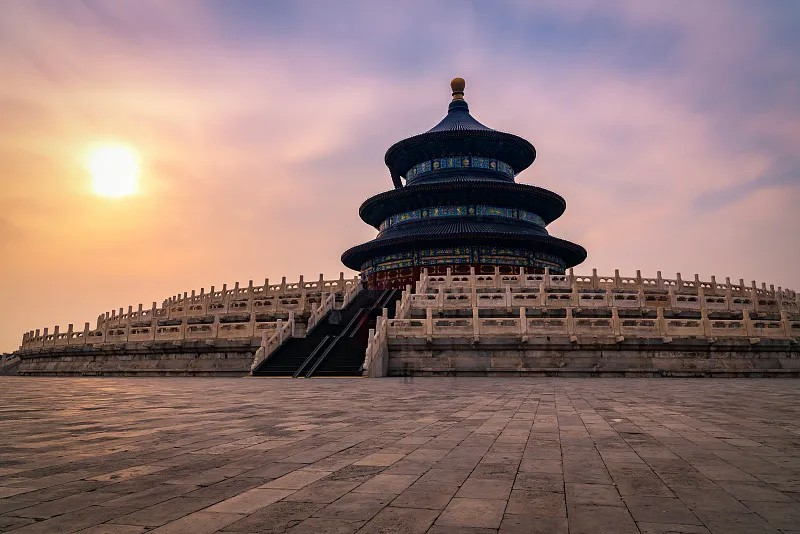Heaven: (341, 77, 589, 290)
